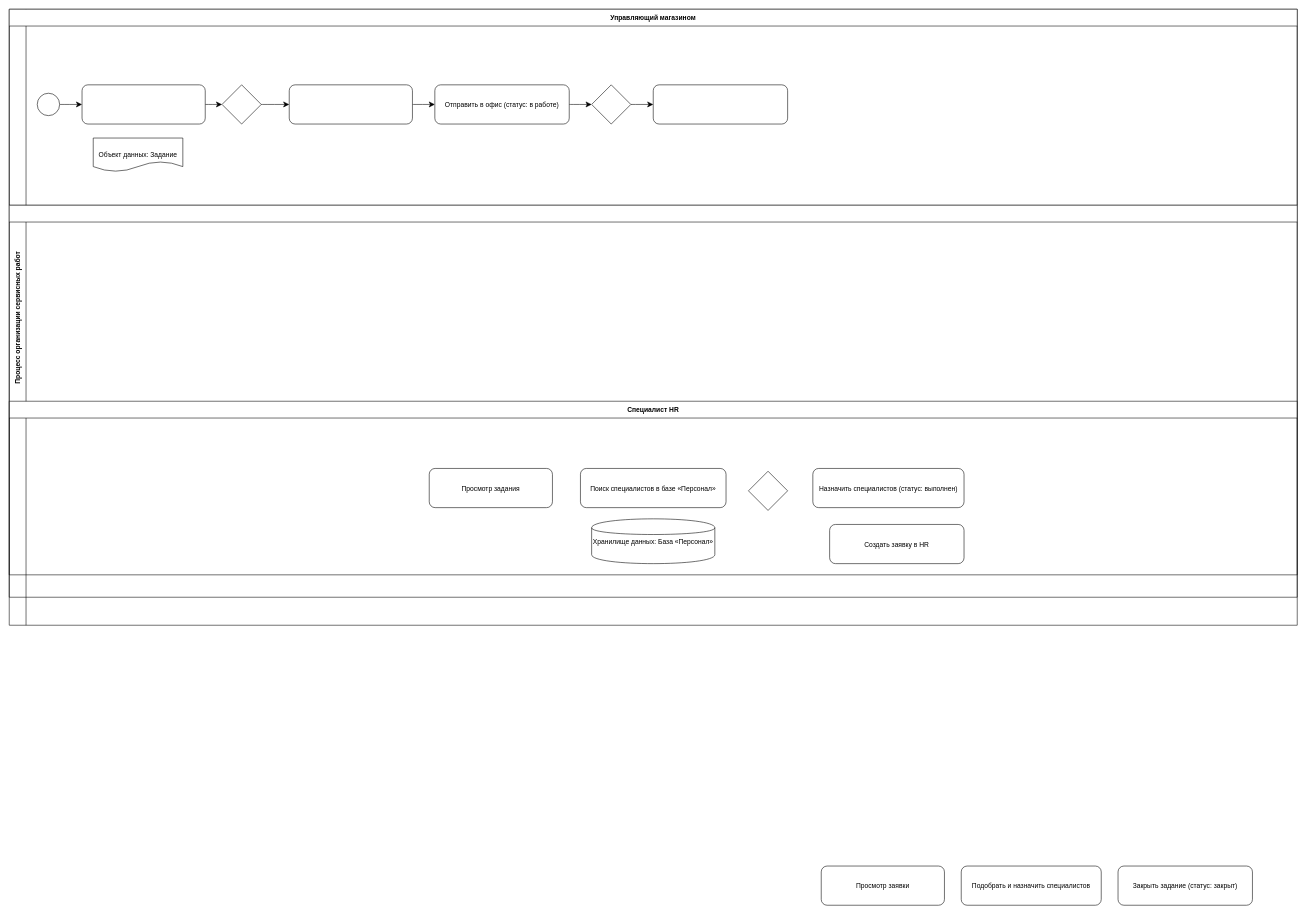
Some shapes in this 1306 by 914 pixel diagram are drawn without their labels. Here are the shapes that lost their labels. From the top down, the box of each, then its label:
(81, 84, 205, 124): Создать задание (статус: новый)
(221, 84, 261, 124): Отправить?
(289, 84, 412, 124): Редактировать задание
(591, 84, 631, 124): Отменить?
(653, 84, 788, 124): Отменить задание (статус: отменён)
(9, 205, 1297, 575): Управляющий офисом
(748, 471, 788, 510): Найдены?
